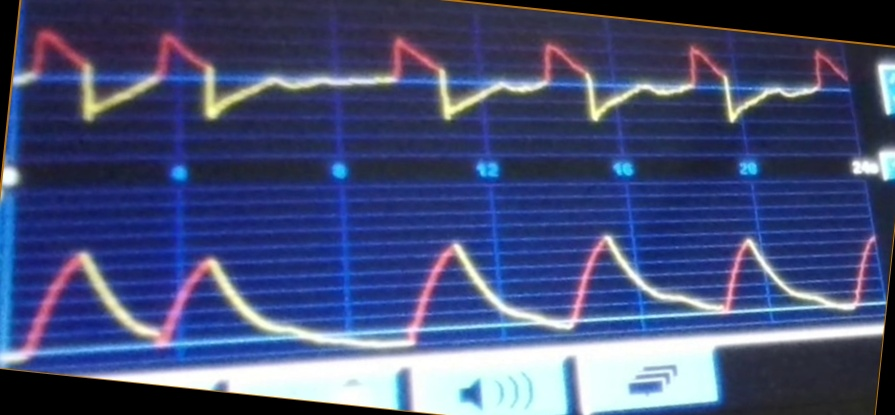Ineffective_effort Flow: (22, 24, 847, 136)
Ineffective_effort Volume: (13, 230, 876, 350)
